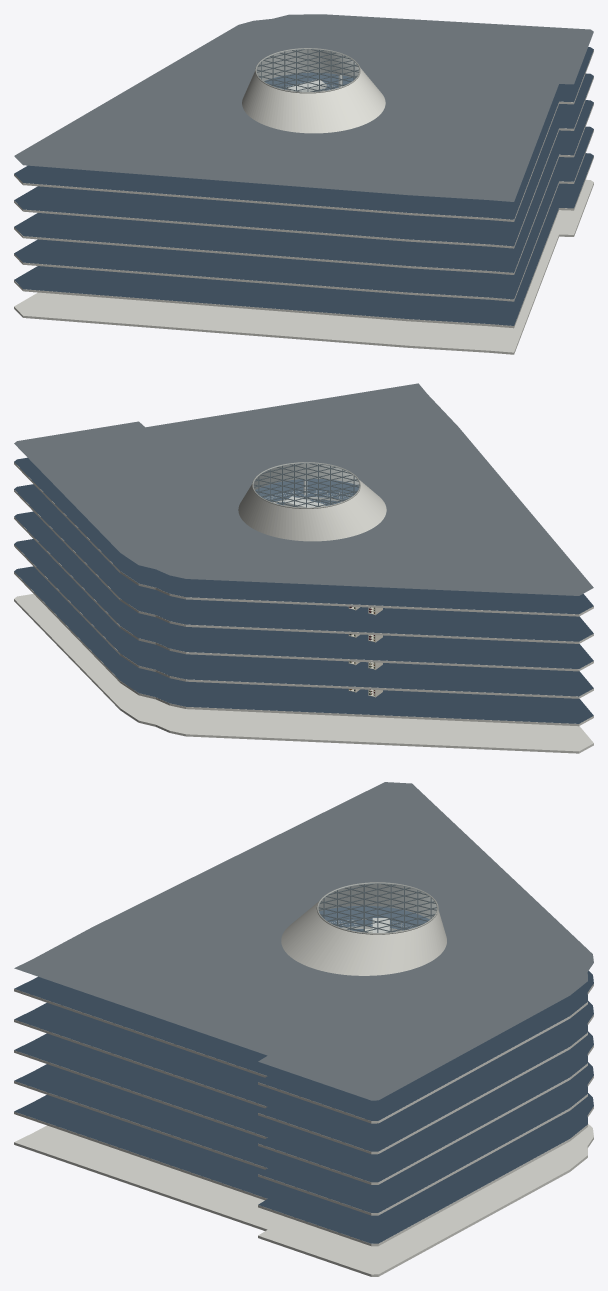
The model's file is lrb-interior-dc2490939e93.glb.
3 views of the same model, one above another, from view 1: azimuth 30°, elevation 25°; view 2: azimuth 150°, elevation 25°; view 3: azimuth 270°, elevation 25° (orthographic). The views are drawn at different scales.
Parts seen in each view (by area): view 1: LRB.001; view 2: LRB.001; view 3: LRB.001.
Part boxes in pixels (x1,y1,x2,y2): LRB.001: [14, 14, 593, 354]; LRB.001: [14, 383, 593, 753]; LRB.001: [14, 782, 593, 1276].
Bounding box in the file's own units: 89.08 × 27.34 × 68.53.
